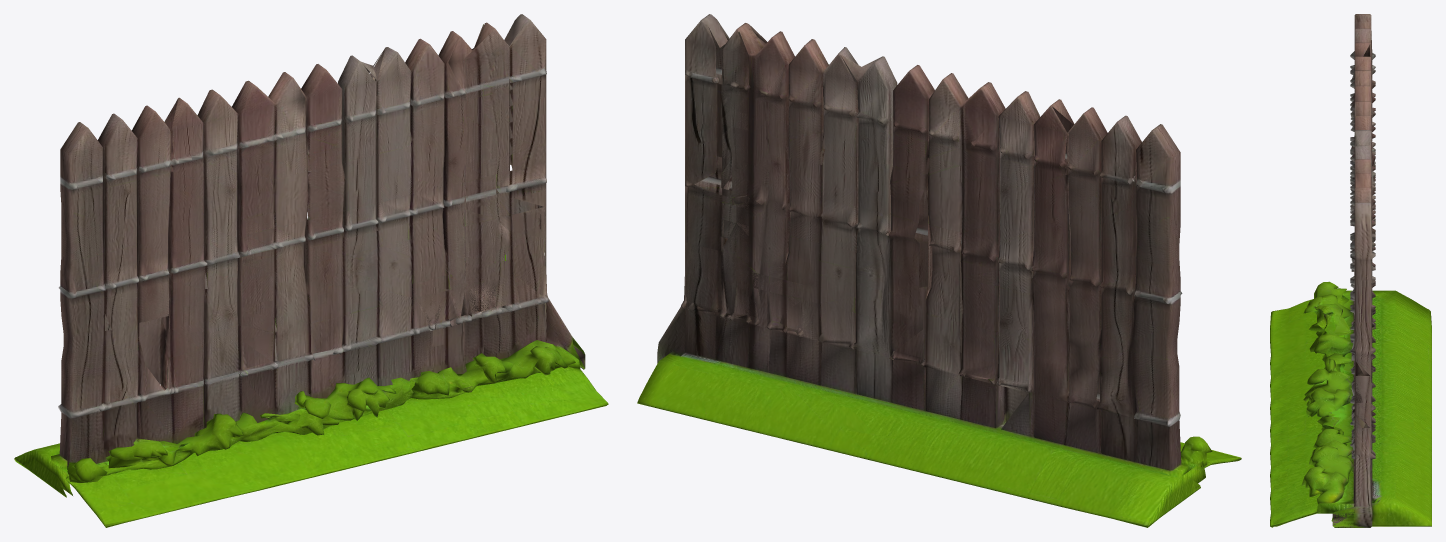
The model's file is fence.glb.
3 renders of one model, left to right at view 1: azimuth 30°, elevation 25°; view 2: azimuth 150°, elevation 25°; view 3: azimuth 270°, elevation 25°, orthographic. The views are drawn at different scales.
Bounding box in the file's own units: 1.95 × 1.29 × 0.6067.
Materials: 1 (1 with a texture image).
